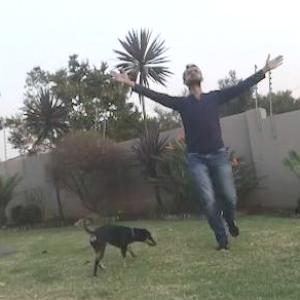takeoff: (133, 63, 282, 233)
